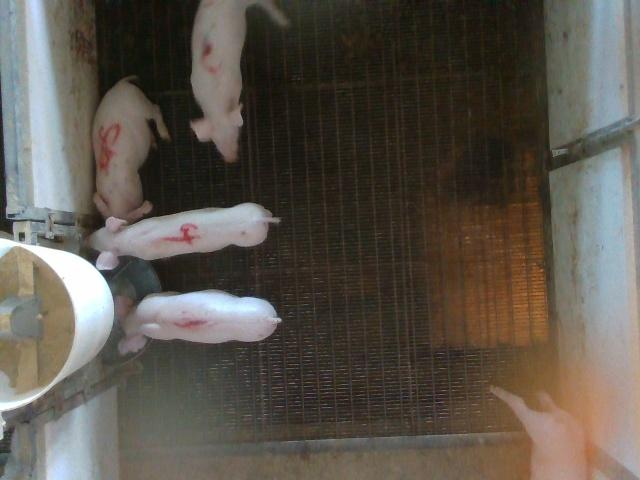pig-1: (114, 290, 281, 355)
pig-3: (191, 0, 249, 162)
pig-4: (88, 202, 280, 270)
pig-5: (92, 76, 170, 223)
